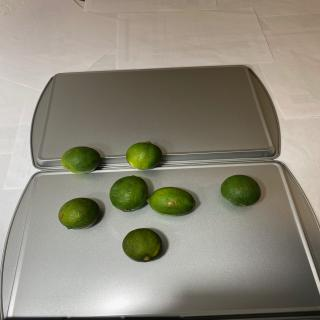Lemon: (146, 187, 196, 216), (109, 175, 148, 212), (58, 197, 100, 230), (122, 228, 162, 262), (220, 174, 261, 207), (60, 146, 101, 174), (126, 141, 162, 170)
